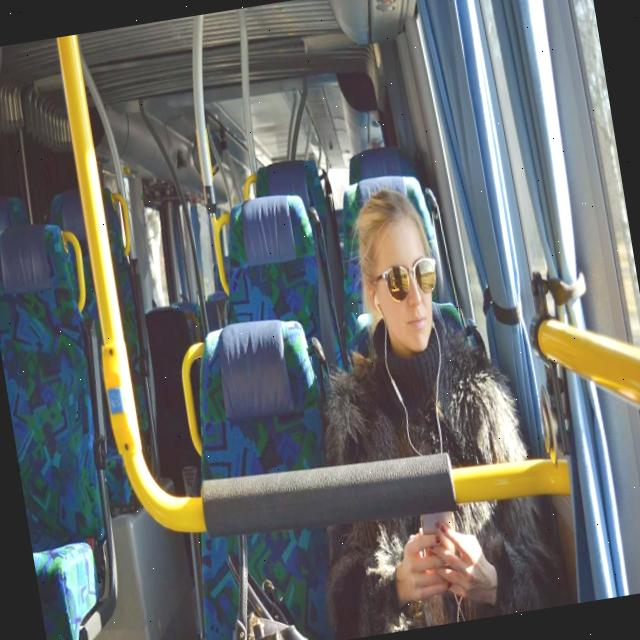empty-seat-frontal: (0, 223, 143, 640)
